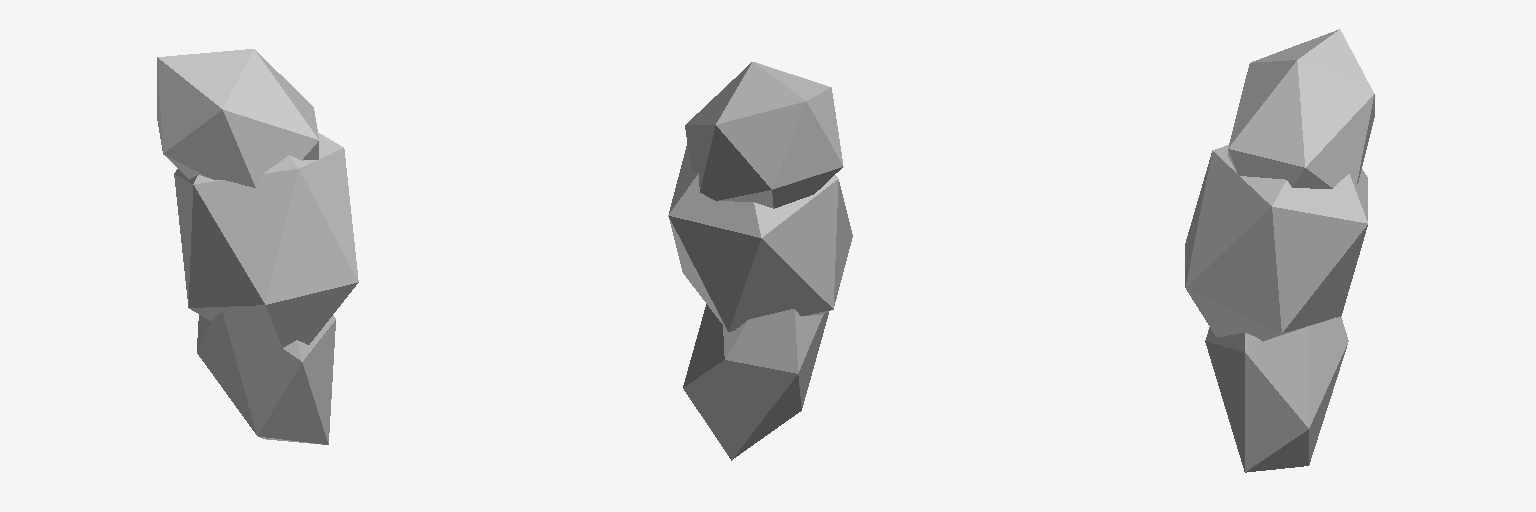
File: nuage0.obj
The picture shows the model from 3 angles: view 1: azimuth 30°, elevation 25°; view 2: azimuth 150°, elevation 25°; view 3: azimuth 270°, elevation 25°; orthographic projection.
Parts seen in each view (by area): view 1: Icosphere, Icosphere.001, Icosphere.002; view 2: Icosphere, Icosphere.001, Icosphere.002; view 3: Icosphere, Icosphere.001, Icosphere.002.
Boxes of the visible parts, box(x1,y1,x2,y2) form: Icosphere: box(174, 133, 358, 347); Icosphere.001: box(157, 49, 318, 187); Icosphere.002: box(197, 312, 335, 444); Icosphere: box(668, 144, 852, 331); Icosphere.001: box(685, 62, 843, 208); Icosphere.002: box(683, 304, 828, 460); Icosphere: box(1185, 145, 1367, 341); Icosphere.001: box(1228, 29, 1374, 188); Icosphere.002: box(1205, 317, 1348, 472).
Size of the model in its own units: 7.66 by 17.3 by 7.44.